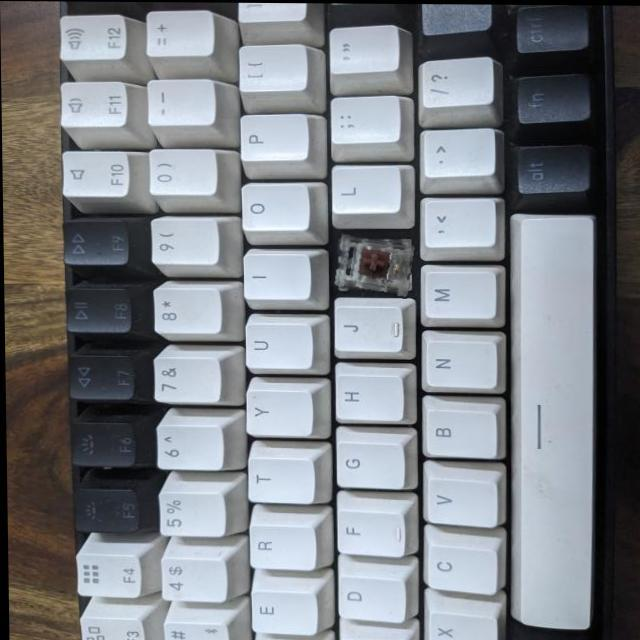key-switch: (331, 234, 413, 294)
